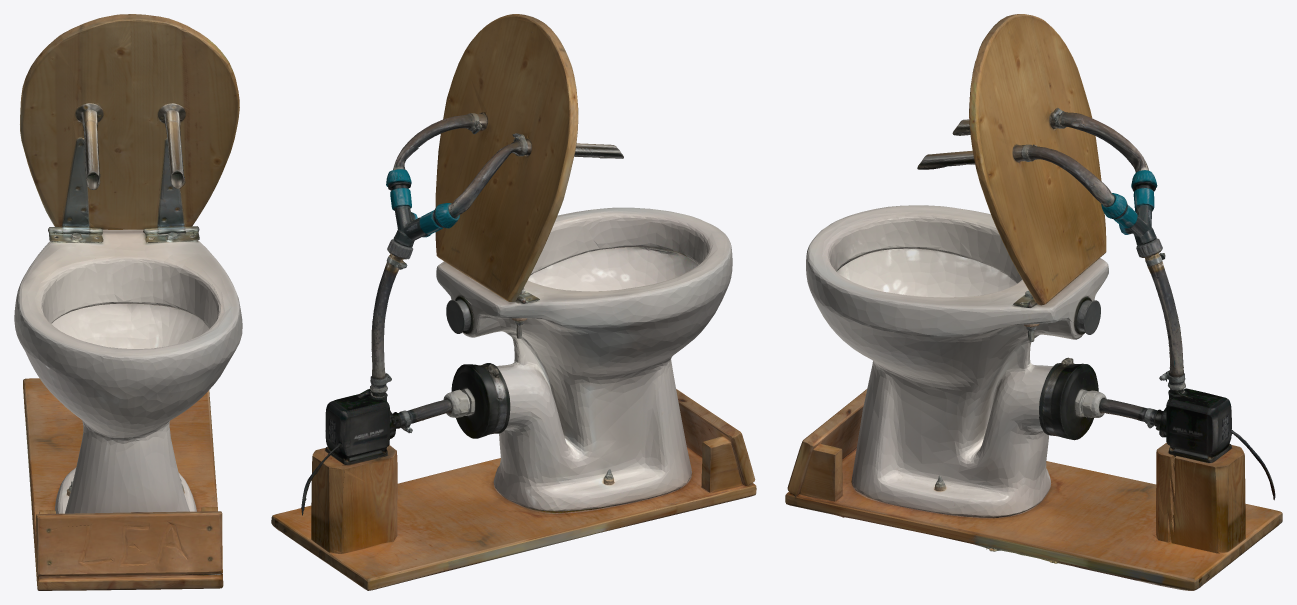
3 renders of one model, left to right at view 1: azimuth 30°, elevation 25°; view 2: azimuth 150°, elevation 25°; view 3: azimuth 270°, elevation 25°, orthographic.
Parts seen in each view (by area): view 1: Klo_35k_2k; view 2: Klo_35k_2k; view 3: Klo_35k_2k.
Boxes of the visible parts, box(x1,y1,x2,y2) form: Klo_35k_2k: box(14, 14, 242, 590); Klo_35k_2k: box(271, 14, 756, 590); Klo_35k_2k: box(785, 14, 1282, 590).
Bounding box in the file's own units: 0.6176 × 0.876 × 0.802.
1 material, 1 textured.
